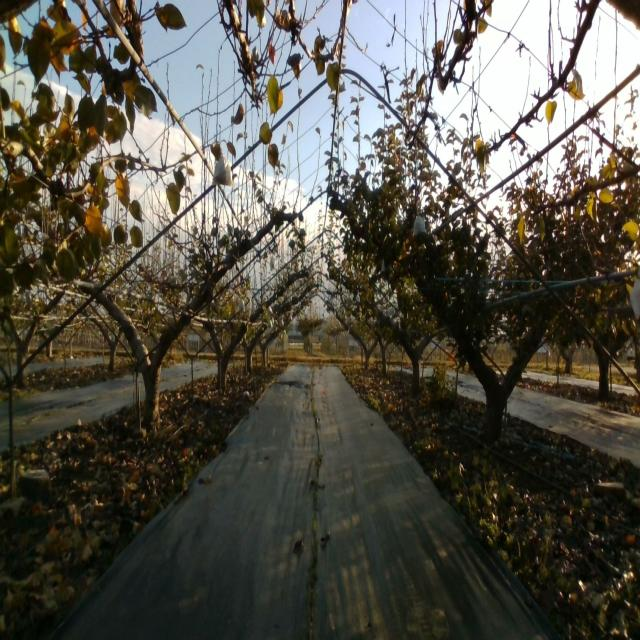pearbags: (212, 151, 234, 188), (412, 215, 426, 238)
